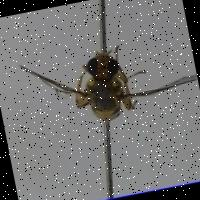Oriental-fruit-fly: (8, 16, 200, 143)
